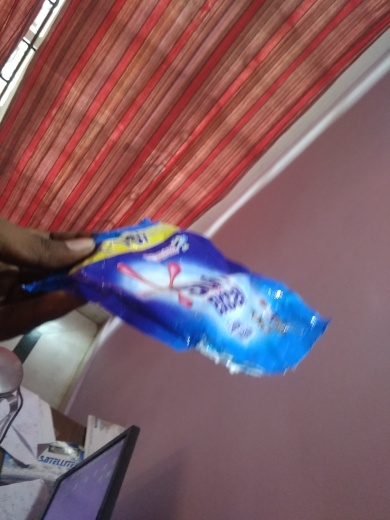surf: (47, 223, 340, 388)
